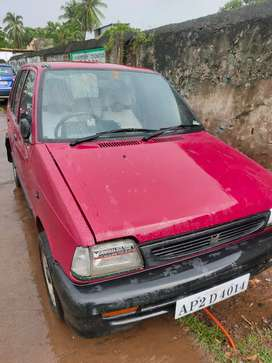AP2D4014: (175, 273, 249, 320)
